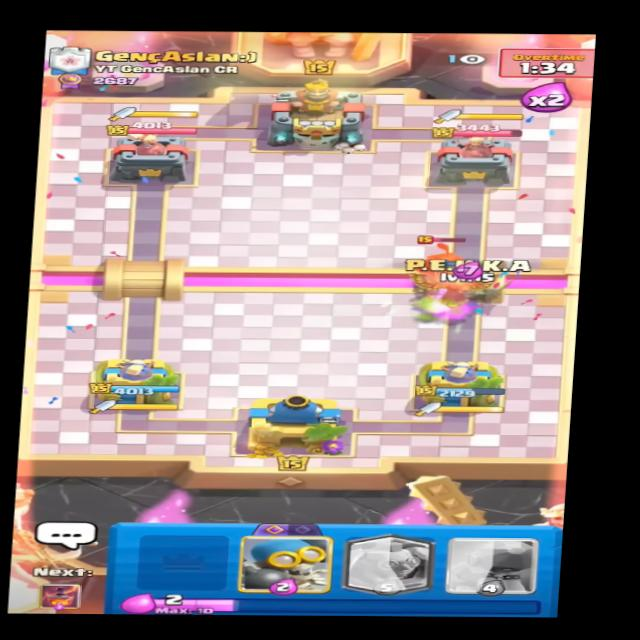prince: (414, 236, 478, 287)
